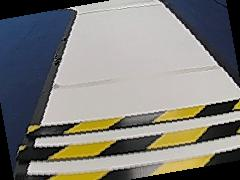bump: (13, 100, 240, 172)
